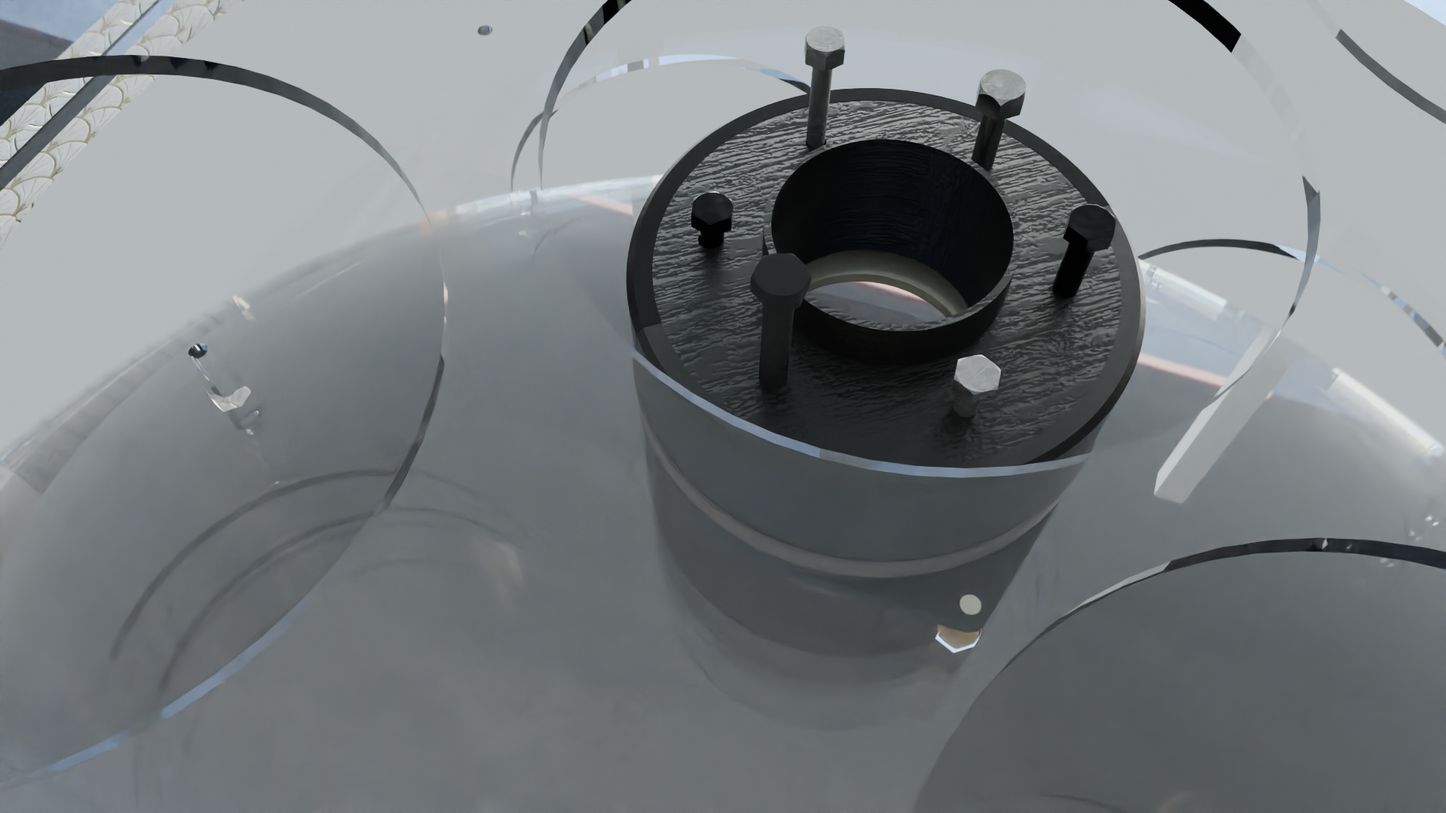bolt: (751, 254, 812, 297), (954, 355, 1001, 394), (1068, 204, 1117, 241), (979, 69, 1027, 106), (691, 191, 734, 226), (806, 26, 845, 58)
